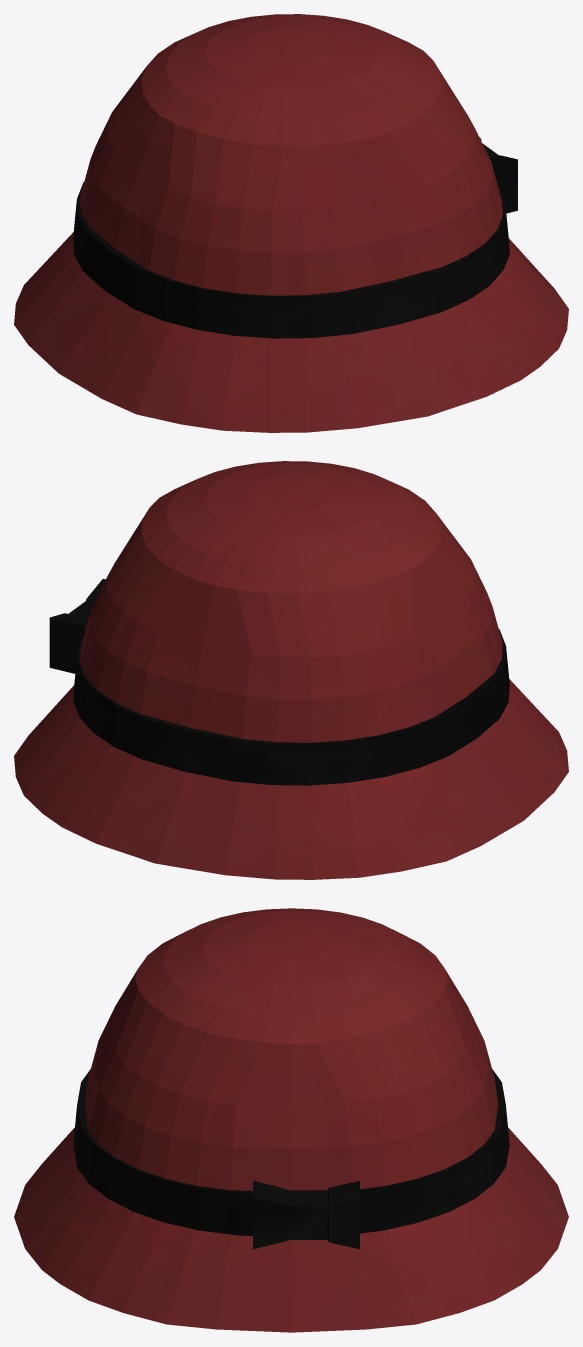
File: cloche.fbx
The picture shows the model from 3 angles, top to bottom: view 1: azimuth 30°, elevation 25°; view 2: azimuth 150°, elevation 25°; view 3: azimuth 270°, elevation 25°; orthographic projection.
Parts seen in each view (by area): view 1: cloche; view 2: cloche; view 3: cloche.
Boxes of the visible parts, x1,y1,x2,y2 form: cloche: (14, 14, 568, 432); cloche: (14, 461, 568, 879); cloche: (14, 908, 568, 1332).
Bounding box in the file's own units: 36.75 × 20.69 × 37.26.
